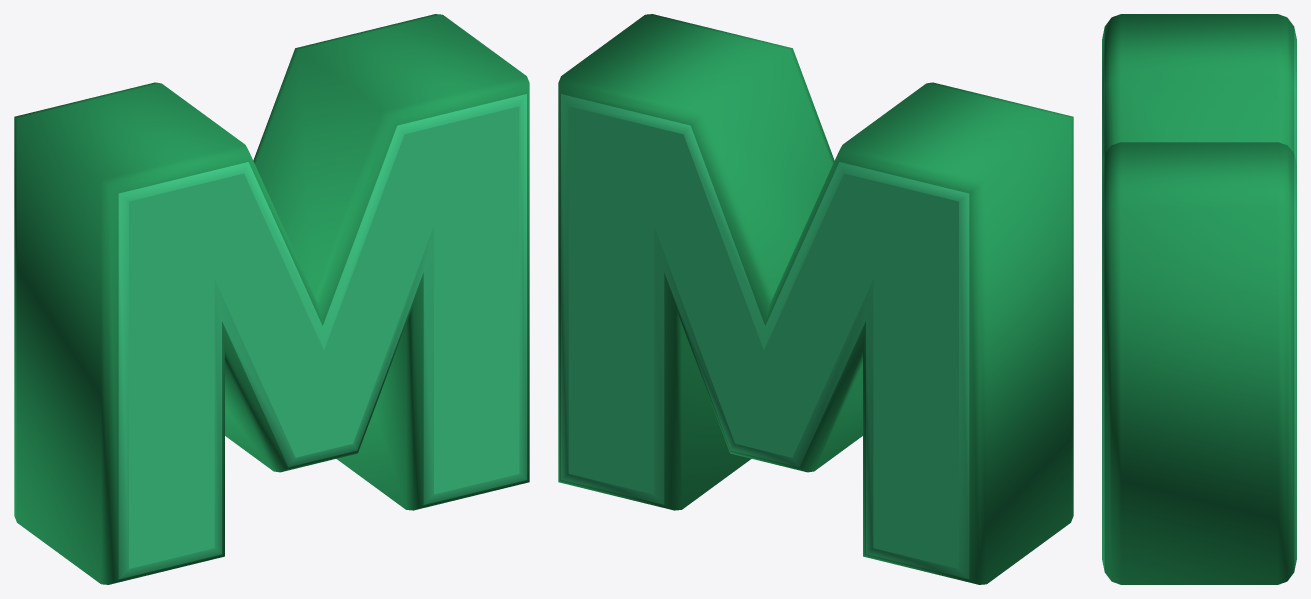
The model's file is letter_M_green.glb.
3 renders of one model, left to right at view 1: azimuth 30°, elevation 25°; view 2: azimuth 150°, elevation 25°; view 3: azimuth 270°, elevation 25°, orthographic. The views are drawn at different scales.
Parts seen in each view (by area): view 1: MOBP_letter_M_green; view 2: MOBP_letter_M_green; view 3: MOBP_letter_M_green.
Boxes of the visible parts, x1,y1,x2,y2 form: MOBP_letter_M_green: [14, 14, 529, 584]; MOBP_letter_M_green: [558, 14, 1073, 584]; MOBP_letter_M_green: [1102, 14, 1296, 584].
Bounding box in the file's own units: 0.0937 × 0.085 × 0.0398.
